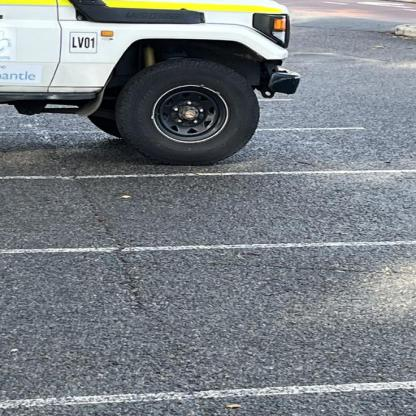Tire: (117, 59, 259, 166)
